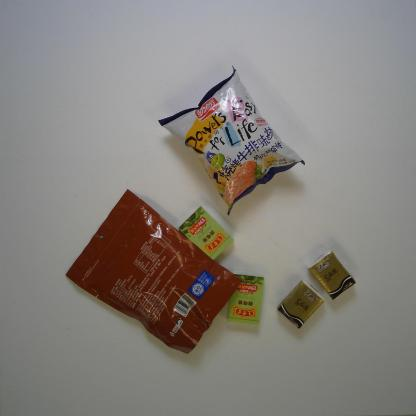Candy: (177, 206, 235, 261), (225, 272, 266, 326)
Dried Food: (63, 187, 244, 356)
Puffed Food: (157, 64, 306, 217)
Tissue: (306, 248, 357, 301), (276, 277, 326, 330)
